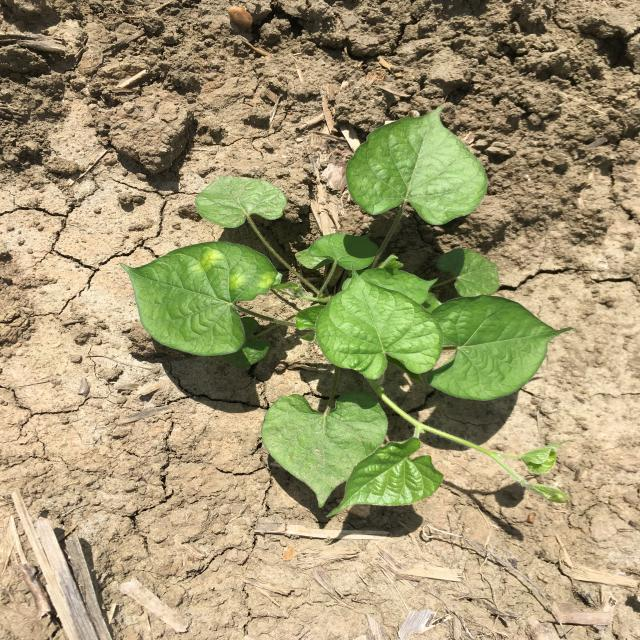MorningGlory: (118, 105, 573, 517)
